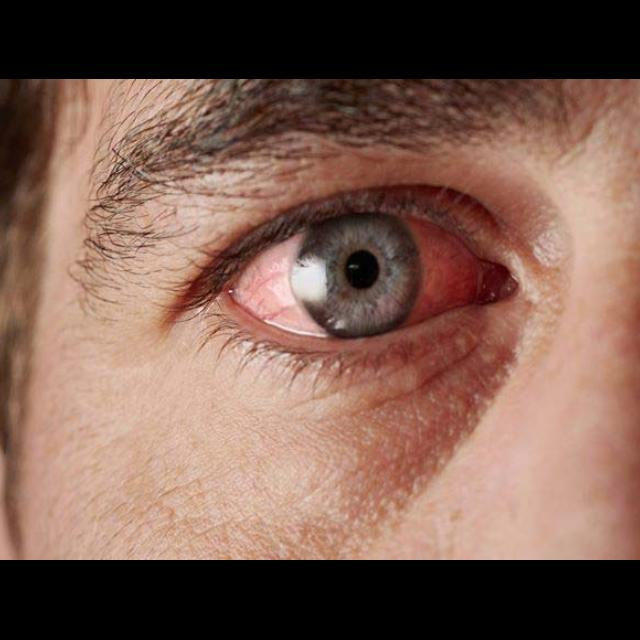eye: (229, 214, 484, 344)
iris: (291, 216, 422, 337)
